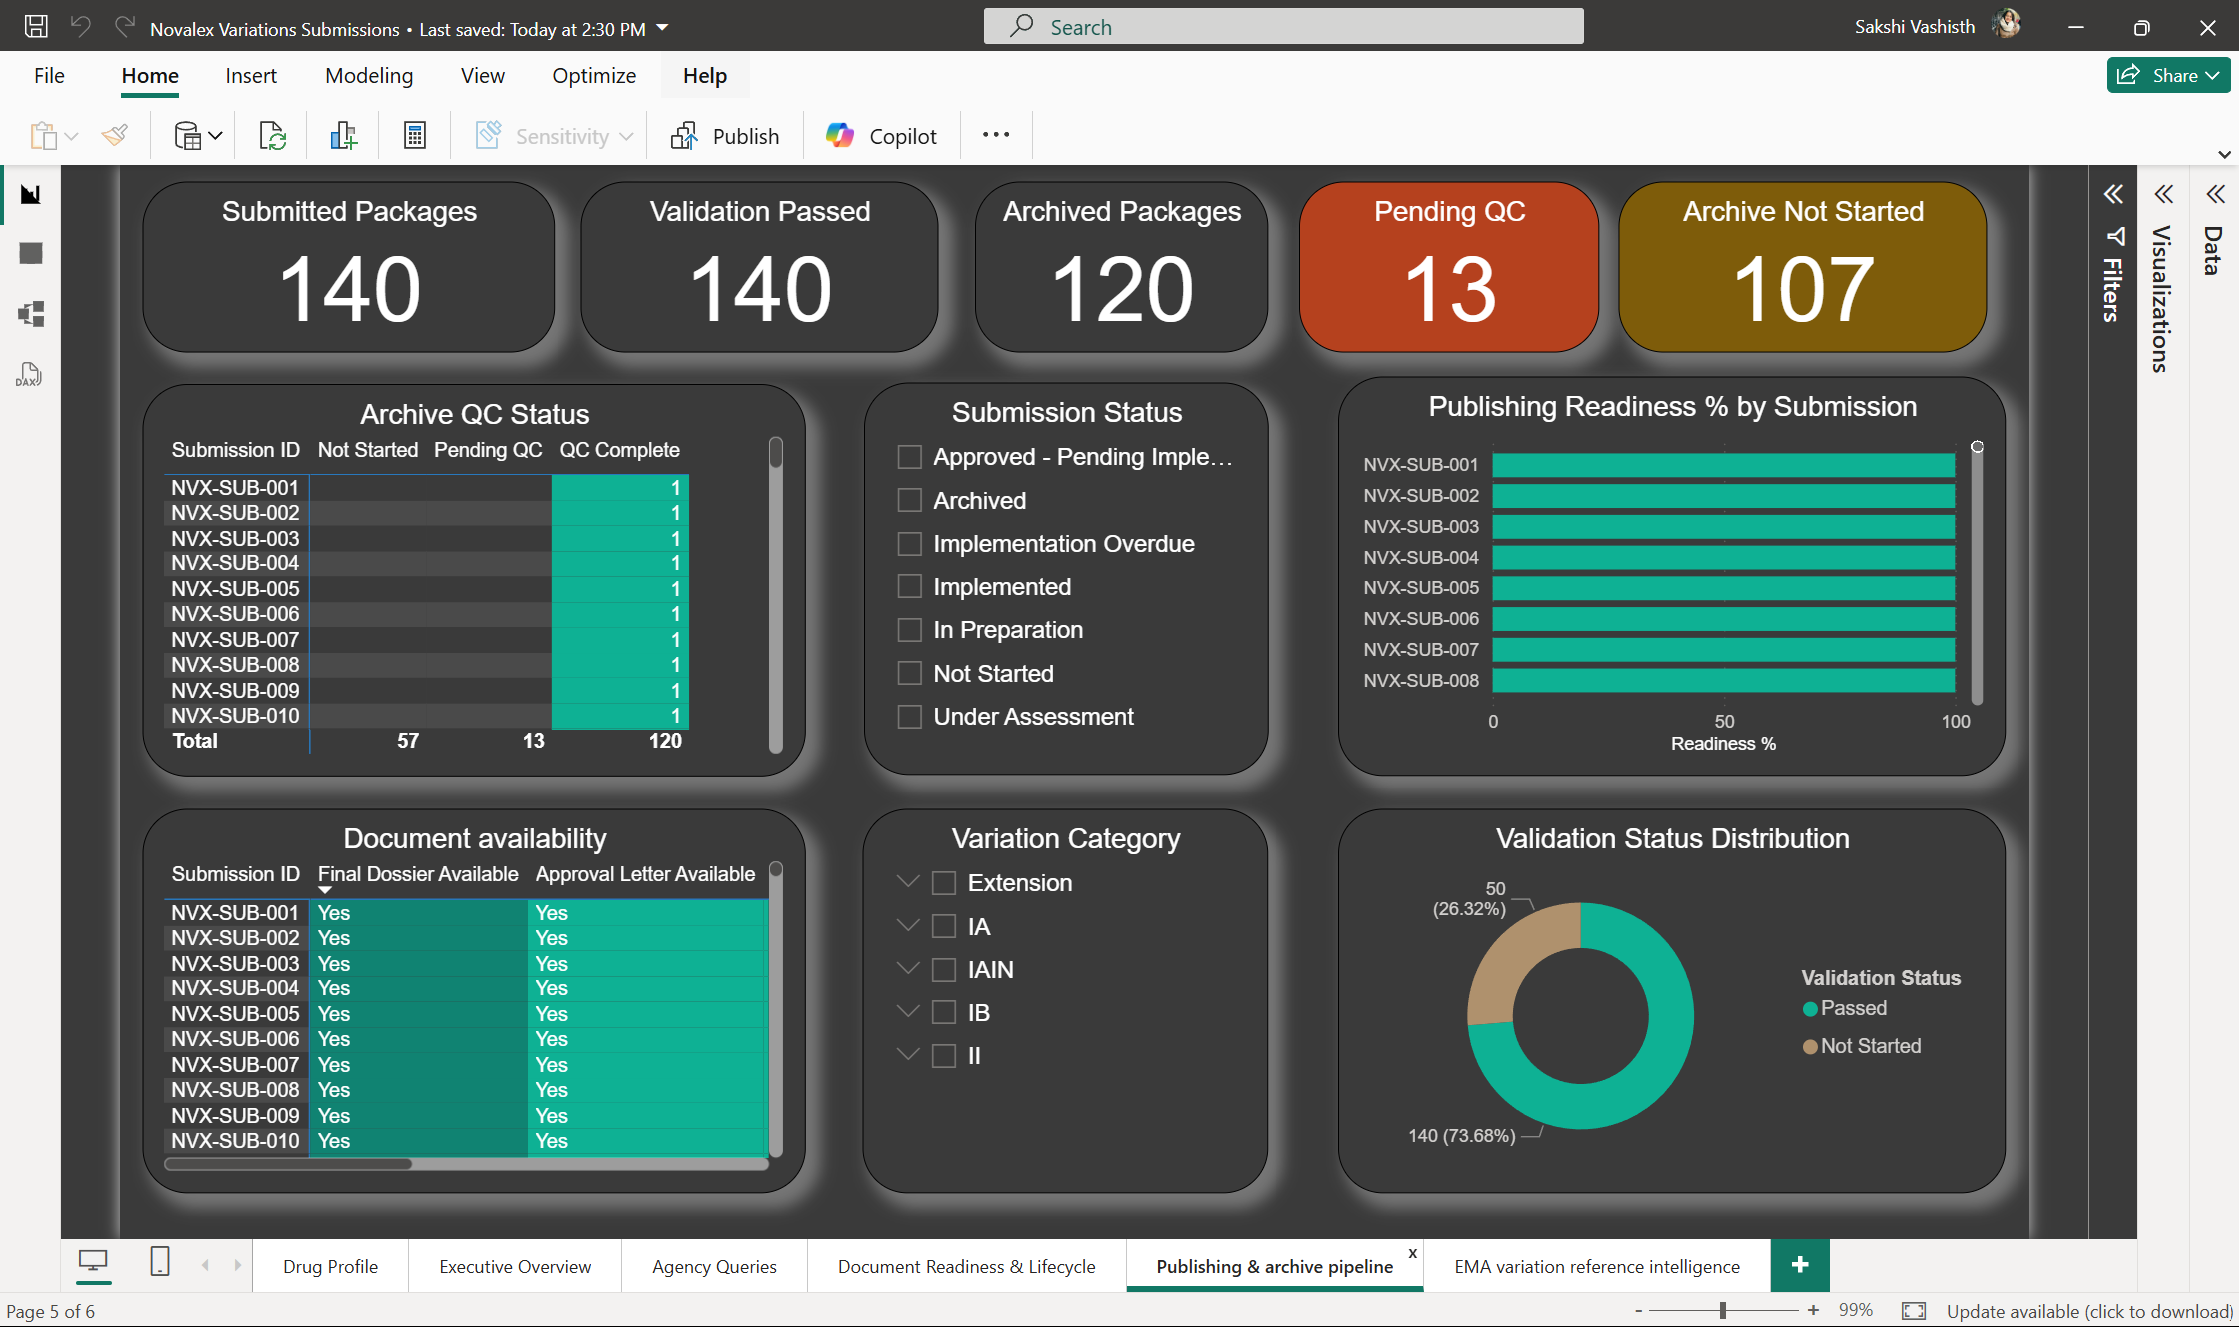

The page's visual inventory and layout, read from the dashboard file:
{"tool":"powerbi","page":{"name":"Publishing & archive pipeline","canvas":[1280,720],"ordinal":4},"visuals":[{"type":"pivotTable","title":"Archive QC Status","fields":{"Rows":["Novalex_Archive_Tracker.Submission_ID"],"Columns":["Novalex_Archive_Tracker.Archive_QC_Status"],"Values":["CountNonNull(Novalex_Archive_Tracker.Archive_ID)"]},"box":[15.5,146.4,444.5,263.6],"z":0},{"type":"card","title":"Submitted Packages","fields":{"Values":["Novalex_Publishing_Tracker.Submitted Packages"]},"box":[15.5,10.9,276.4,114.5],"z":1000},{"type":"card","title":"Validation Passed","fields":{"Values":["Novalex_Publishing_Tracker.Validation Passed"]},"box":[309.1,10.9,240,114.5],"z":2000},{"type":"card","title":"Archived Packages","fields":{"Values":["Novalex_Archive_Tracker.Archived Packages"]},"box":[573.6,10.9,196.4,114.5],"z":3000},{"type":"card","title":"Pending QC","fields":{"Values":["Novalex_Archive_Tracker.Pending_QC_Count"]},"box":[790,10.6,201.3,114.4],"z":4000},{"type":"card","title":"Archive Not Started","fields":{"Values":["Novalex_Archive_Tracker.Not_Started_Archive_Count"]},"box":[1004.5,10.9,247.3,114.5],"z":5000},{"type":"pivotTable","title":"Document availability","fields":{"Rows":["Novalex_Archive_Tracker.Submission_ID"],"Values":["Min(Novalex_Archive_Tracker.Final_Dossier_Available)","Min(Novalex_Archive_Tracker.Approval_Letter_Available)","Min(Novalex_Archive_Tracker.Gateway_Acknowledgement_Available)","Min(Novalex_Archive_Tracker.Agency_Correspondence_Available)"]},"box":[15.5,430.9,444.5,258.2],"z":6000},{"type":"clusteredBarChart","title":"Publishing Readiness % by Submission","fields":{"Y":["Sum(Novalex_Publishing_Tracker.Readiness_Percent)"],"Category":["Novalex_Publishing_Tracker.Submission_ID"]},"box":[816.4,141.8,448.2,268.2],"z":7000},{"type":"donutChart","title":"Validation Status Distribution","fields":{"Category":["Novalex_Publishing_Tracker.Validation_Status"],"Y":["Count(Novalex_Publishing_Tracker.Publishing_ID)"]},"box":[816.4,430.9,448.2,258.2],"z":8000},{"type":"slicer","title":"Submission Status","fields":{"Values":["Novalex_Publishing_Tracker.Submission_Status"]},"box":[498.3,146.3,271.3,263.3],"z":9000},{"type":"slicer","title":"Variation Category","fields":{"Values":["Novalex_Publishing_Tracker.Variation_Category","Novalex_Publishing_Tracker.Publishing_Status"]},"box":[498,431,272,258],"z":10000}]}

Visuals, with their boxes on the page's 1280x720 design canvas (x1, y1, x2, y2). These are canvas units, not pixel positions in the 2239x1327 screenshot, which may show the page scaled, cropped or inside an application window:
"Archive QC Status" pivotTable: select_region(16, 146, 460, 410)
"Submitted Packages" card: select_region(16, 11, 292, 125)
"Validation Passed" card: select_region(309, 11, 549, 125)
"Archived Packages" card: select_region(574, 11, 770, 125)
"Pending QC" card: select_region(790, 11, 991, 125)
"Archive Not Started" card: select_region(1004, 11, 1252, 125)
"Document availability" pivotTable: select_region(16, 431, 460, 689)
"Publishing Readiness % by Submission" clusteredBarChart: select_region(816, 142, 1265, 410)
"Validation Status Distribution" donutChart: select_region(816, 431, 1265, 689)
"Submission Status" slicer: select_region(498, 146, 770, 410)
"Variation Category" slicer: select_region(498, 431, 770, 689)
